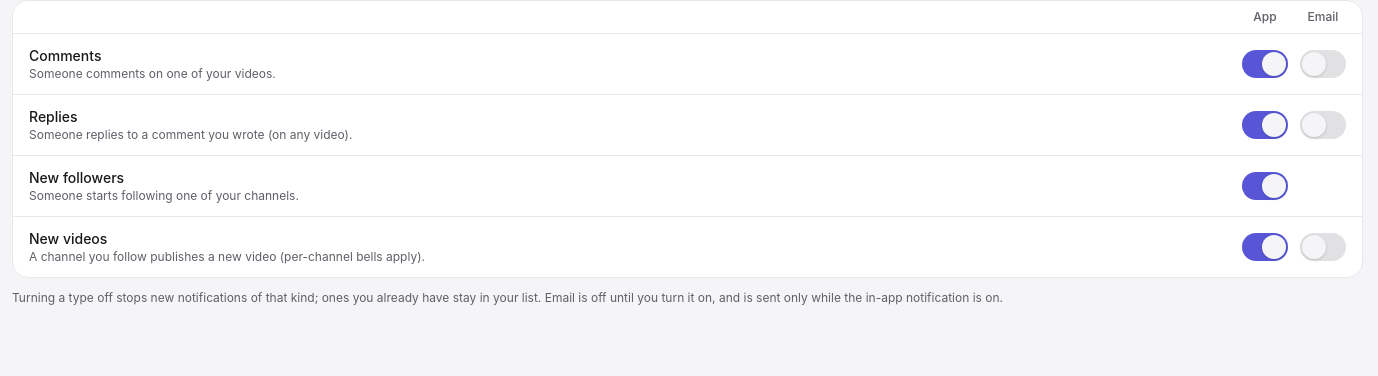
Test: NotificationPrefsView email column › reverts a failed email change and says so
Click the switch named "Replies email notifications" at {"x": 1323, "y": 125}, box x1=1300 y1=111 x2=1346 y2=139
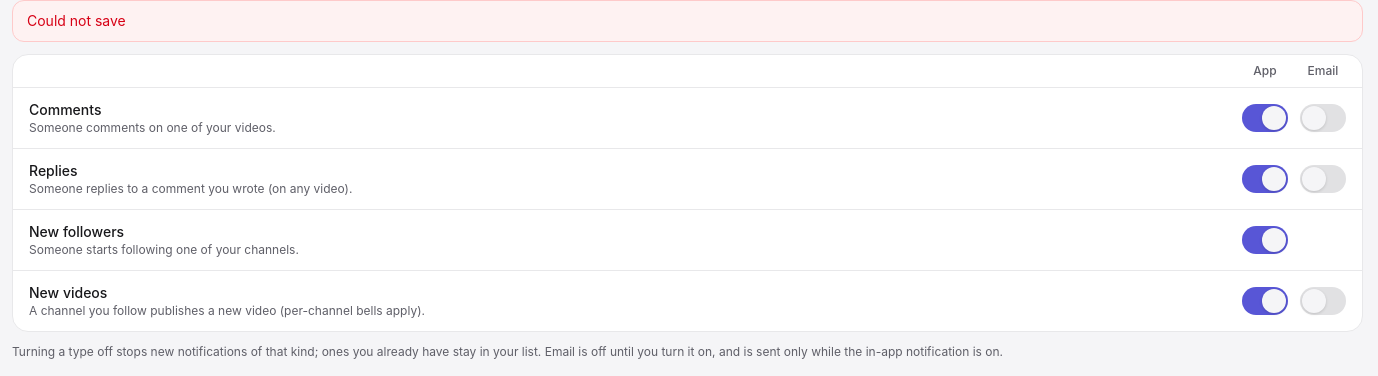
expect the text "Could not save" is shown: met, box x1=12 y1=0 x2=1363 y2=42
